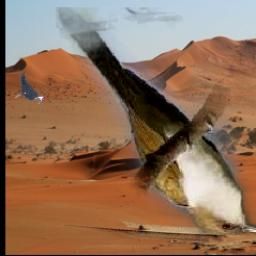Cuckoo: (56, 8, 256, 236)
Woodpecker: (15, 73, 46, 105)
